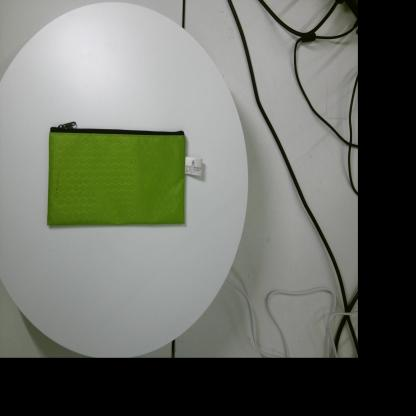Stationery: (47, 121, 202, 226)
